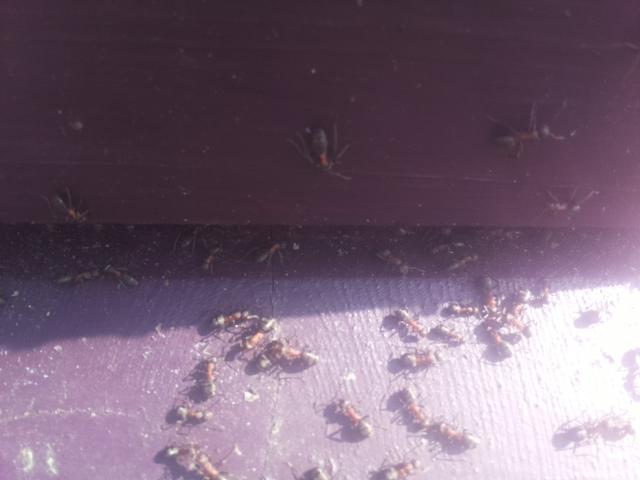ant: (294, 114, 347, 185), (487, 117, 557, 155), (331, 392, 377, 441), (45, 186, 97, 229), (391, 345, 449, 377), (431, 418, 484, 453), (178, 444, 228, 480), (262, 340, 323, 369), (240, 313, 280, 354), (397, 381, 428, 431), (372, 243, 415, 278), (50, 262, 104, 289), (206, 305, 249, 336), (393, 303, 425, 343), (174, 401, 215, 430), (484, 322, 515, 360), (197, 354, 223, 399), (104, 263, 143, 291), (377, 458, 421, 480), (197, 243, 226, 273), (479, 272, 498, 311), (435, 324, 464, 344)
